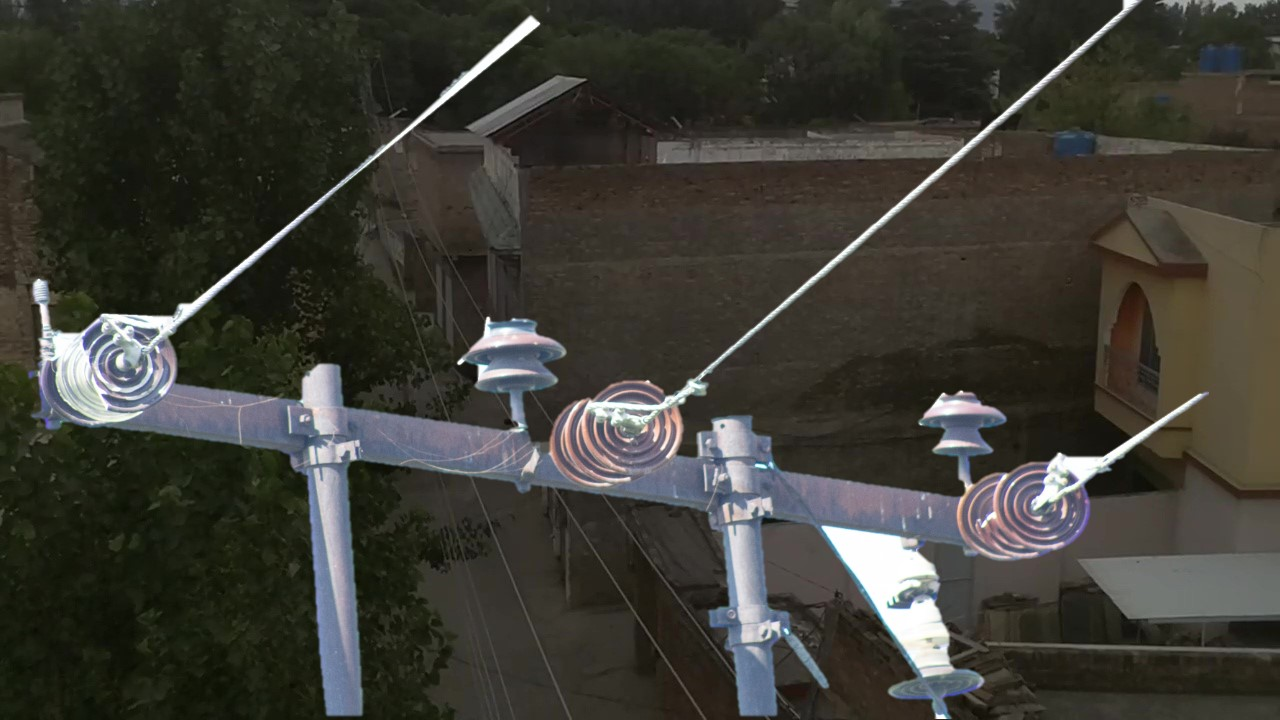defect_disc: (79, 309, 181, 416)
insulator_disc: (579, 371, 685, 477), (990, 461, 1097, 558)
